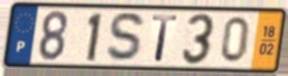0: (218, 15, 253, 66)
1: (86, 10, 105, 63)
3: (180, 12, 217, 67)
8: (37, 9, 70, 63)
S: (104, 11, 148, 65)
T: (150, 14, 180, 63)
